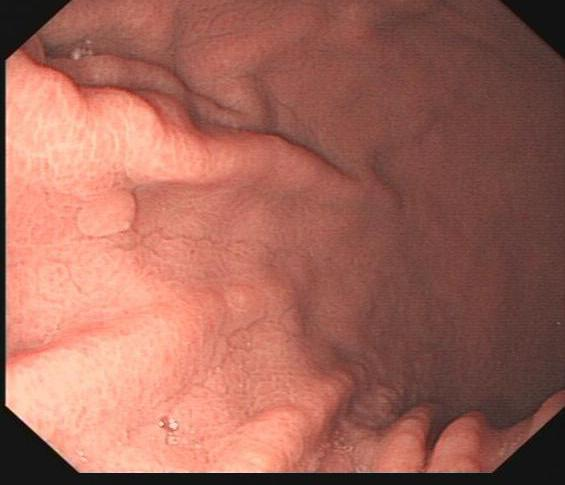Polyp: (68, 185, 130, 253)
